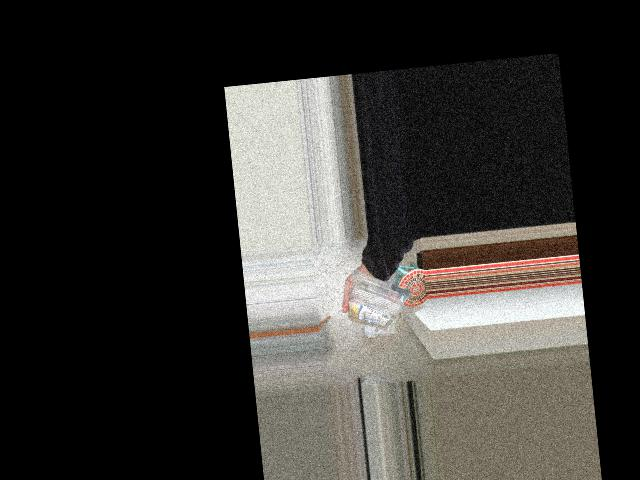cheese: (345, 263, 419, 344)
